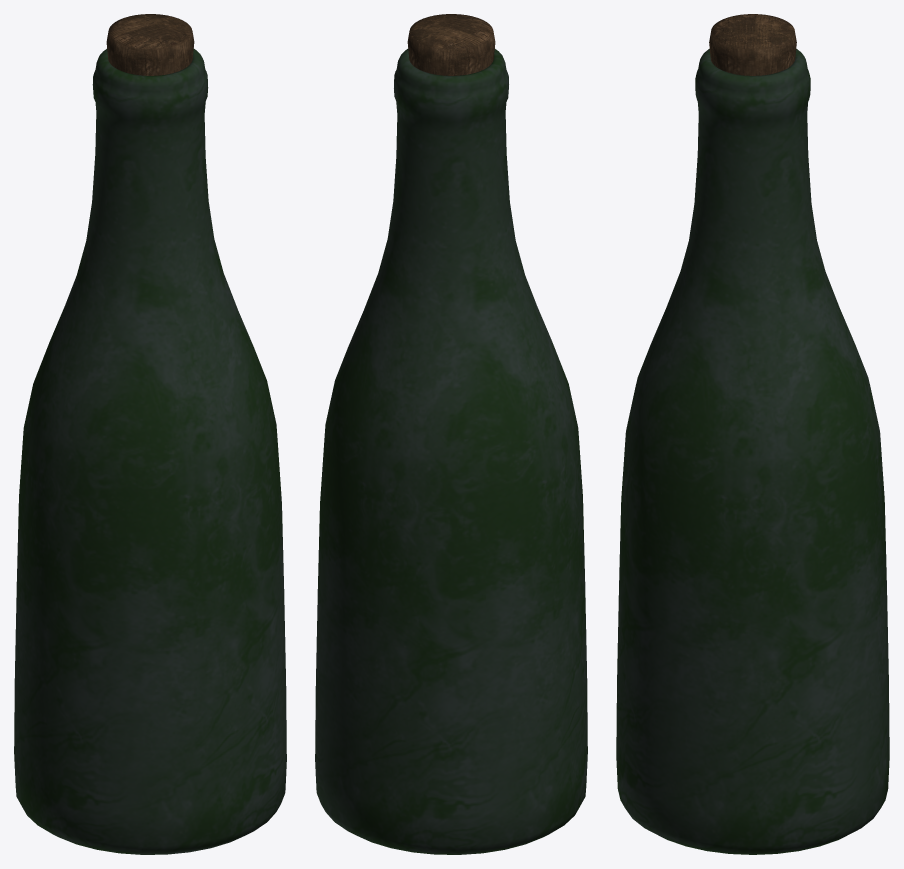
File: bottle.glb
3 views of the same model, side by side, from view 1: azimuth 30°, elevation 25°; view 2: azimuth 150°, elevation 25°; view 3: azimuth 270°, elevation 25° (orthographic).
Visible parts, largest first — view 1: Object_2, Object_3; view 2: Object_2, Object_3; view 3: Object_2, Object_3.
Boxes of the visible parts, x1,y1,x2,y2 form: Object_2: [14, 48, 286, 854]; Object_3: [106, 14, 194, 75]; Object_2: [315, 48, 587, 854]; Object_3: [407, 14, 495, 75]; Object_2: [616, 49, 889, 854]; Object_3: [709, 14, 796, 75].
Size of the model in its own units: 0.0852 by 0.2684 by 0.0852.
2 materials, 2 textured.
